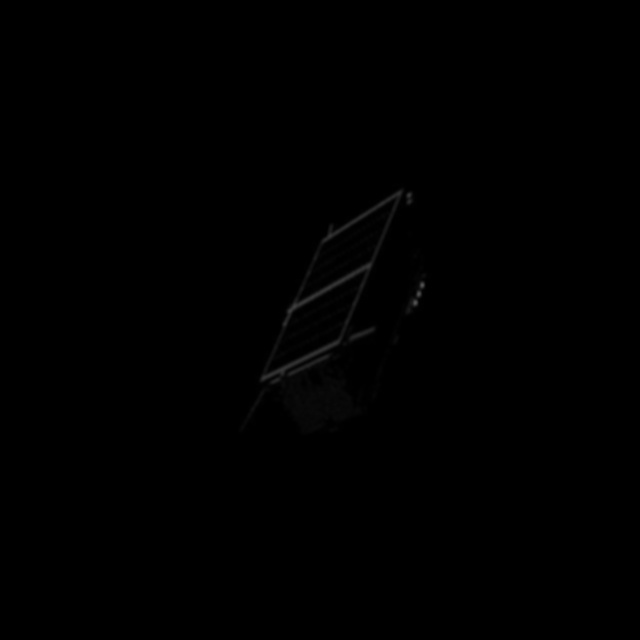satellite: (238, 180, 436, 464)
